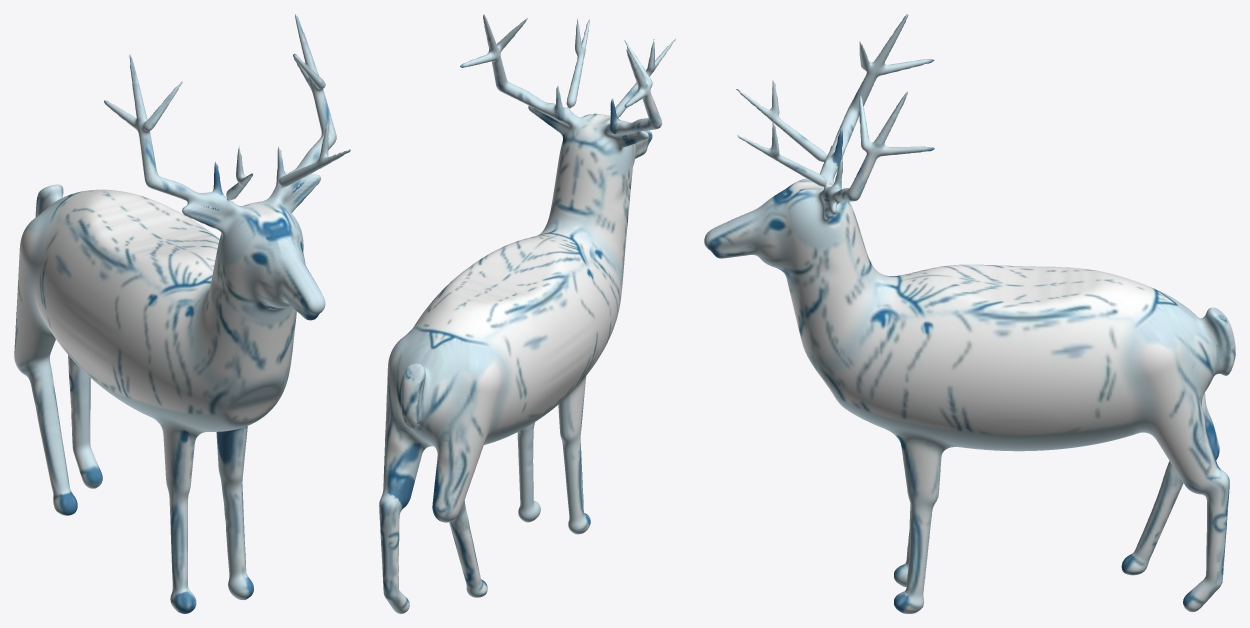
3 renders of one model, left to right at view 1: azimuth 30°, elevation 25°; view 2: azimuth 150°, elevation 25°; view 3: azimuth 270°, elevation 25°, orthographic. The views are drawn at different scales.
Parts seen in each view (by area): view 1: animal; view 2: animal; view 3: animal.
Boxes of the visible parts, x1,y1,x2,y2 form: animal: (14, 14, 350, 613); animal: (379, 14, 675, 613); animal: (704, 14, 1235, 613).
Size of the model in its own units: 0.7334 by 2.08 by 1.84.
Materials: 1 (1 with a texture image).
